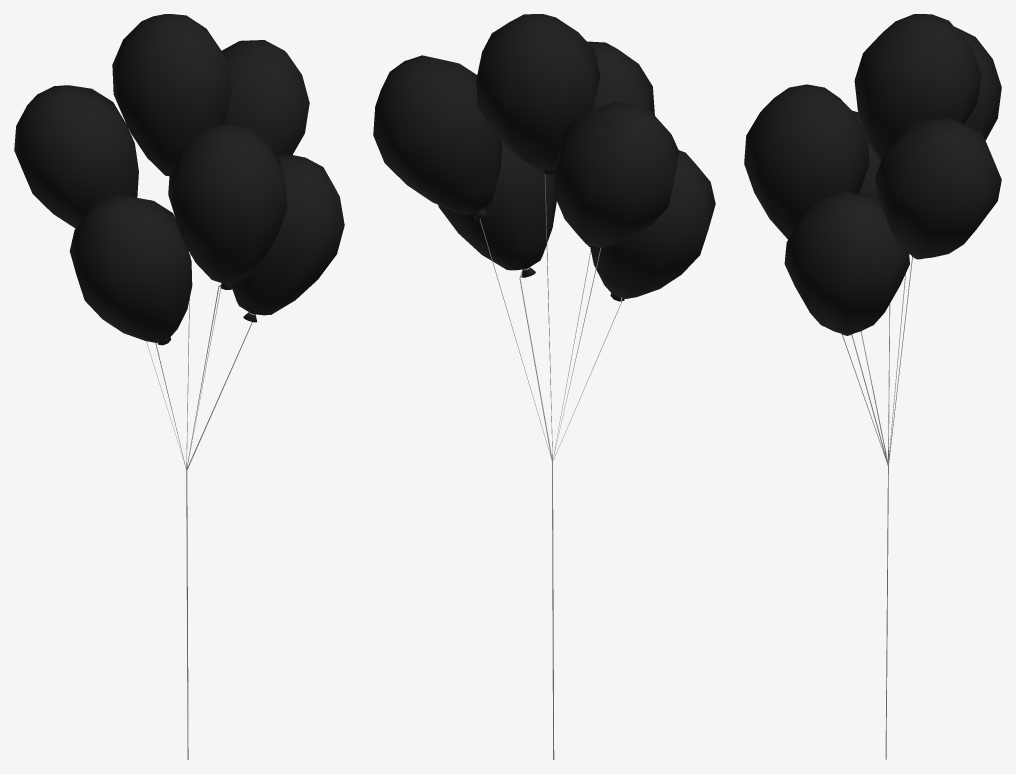
Rendered from BalloonBunchBlack.glb.
The picture shows the model from 3 angles, left to right: view 1: azimuth 30°, elevation 25°; view 2: azimuth 150°, elevation 25°; view 3: azimuth 270°, elevation 25°; orthographic projection. The views are drawn at different scales.
Parts seen in each view (by area): view 1: BalloonBunchBlack; view 2: BalloonBunchBlack; view 3: BalloonBunchBlack.
Boxes of the visible parts, x1=… form: BalloonBunchBlack: x1=14, y1=14, x2=344, y2=759; BalloonBunchBlack: x1=373, y1=14, x2=715, y2=759; BalloonBunchBlack: x1=744, y1=14, x2=1001, y2=759.
Size of the model in its own units: 1.32 by 3.26 by 1.03.
Materials: 1 (1 with a texture image).
